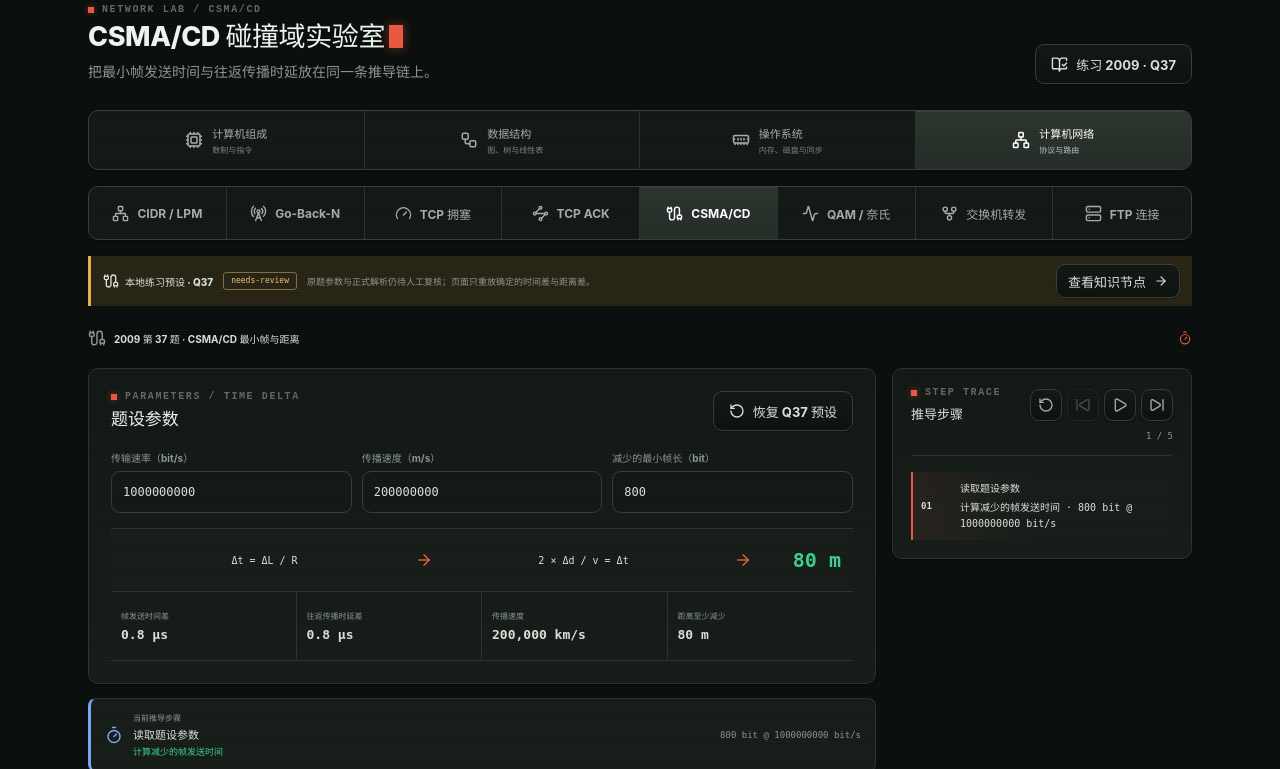
it: CsmaCdCollisionLabPage › keeps the current derivation synchronized with StepExplorer
Expected: the element named "当前 CSMA/CD 推导步骤" shows "读取题设参数", [133,728,199,742]
Click the button named "下一步" at [1157, 406], box [1141,390,1173,422]
(page scrolled)
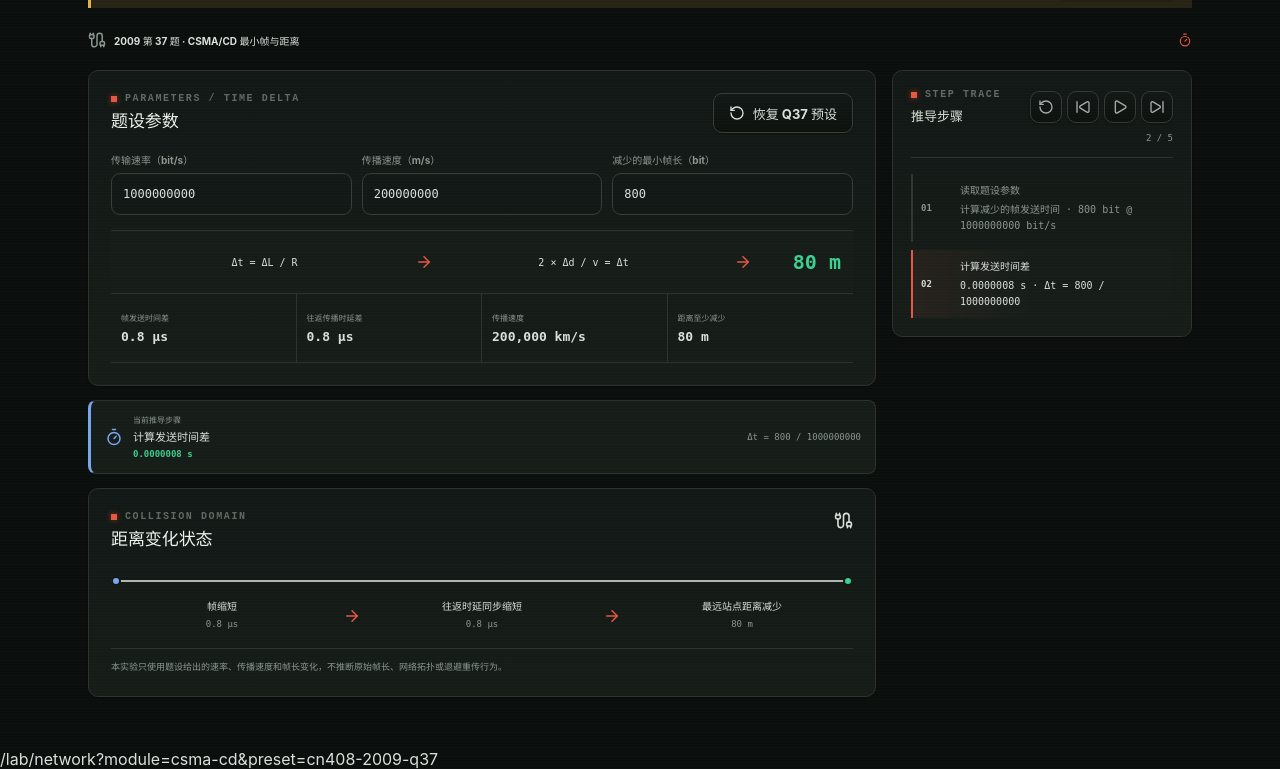
Expected: the element named "当前 CSMA/CD 推导步骤" shows "计算发送时间差", [133,430,210,444]
Expected: the element named "转换步骤" shows "2 / 5", [892,70,1192,338]
Expected: the element named "当前 CSMA/CD 推导步骤" shows "0.0000008 s", [133,449,193,459]
